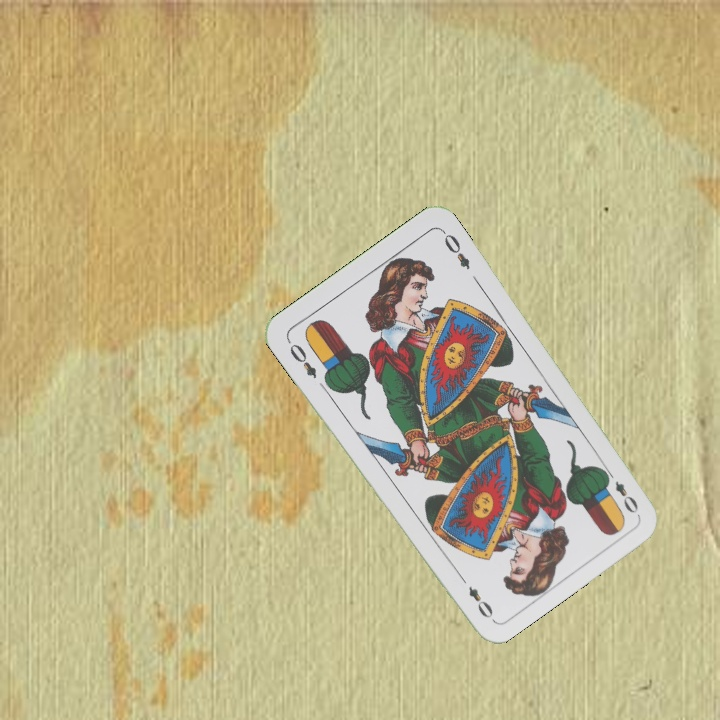EO: (600, 465, 642, 516), (285, 339, 320, 381)
